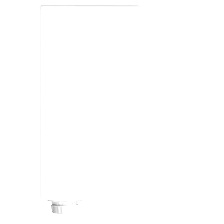carton: (34, 2, 152, 218)
